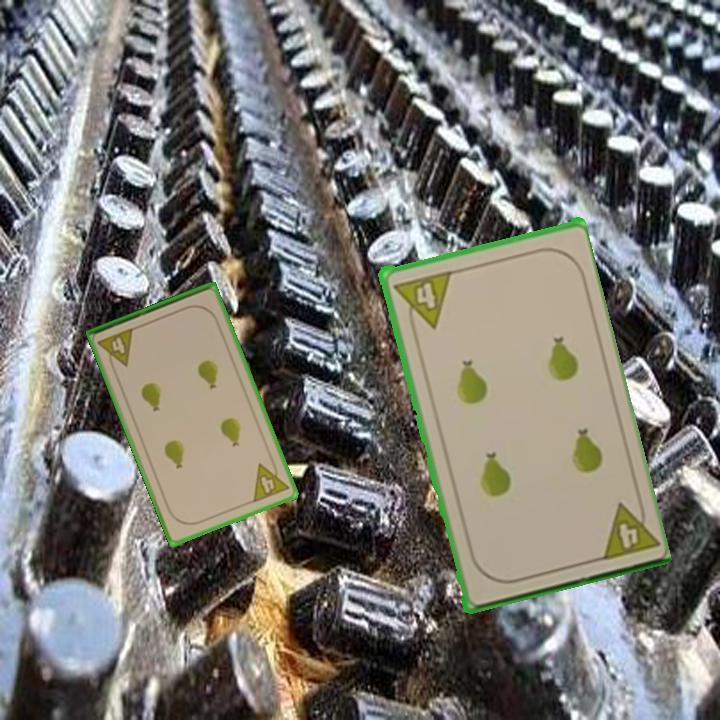4p: (594, 494, 659, 563), (389, 267, 454, 335), (249, 455, 292, 506), (94, 324, 137, 373)
